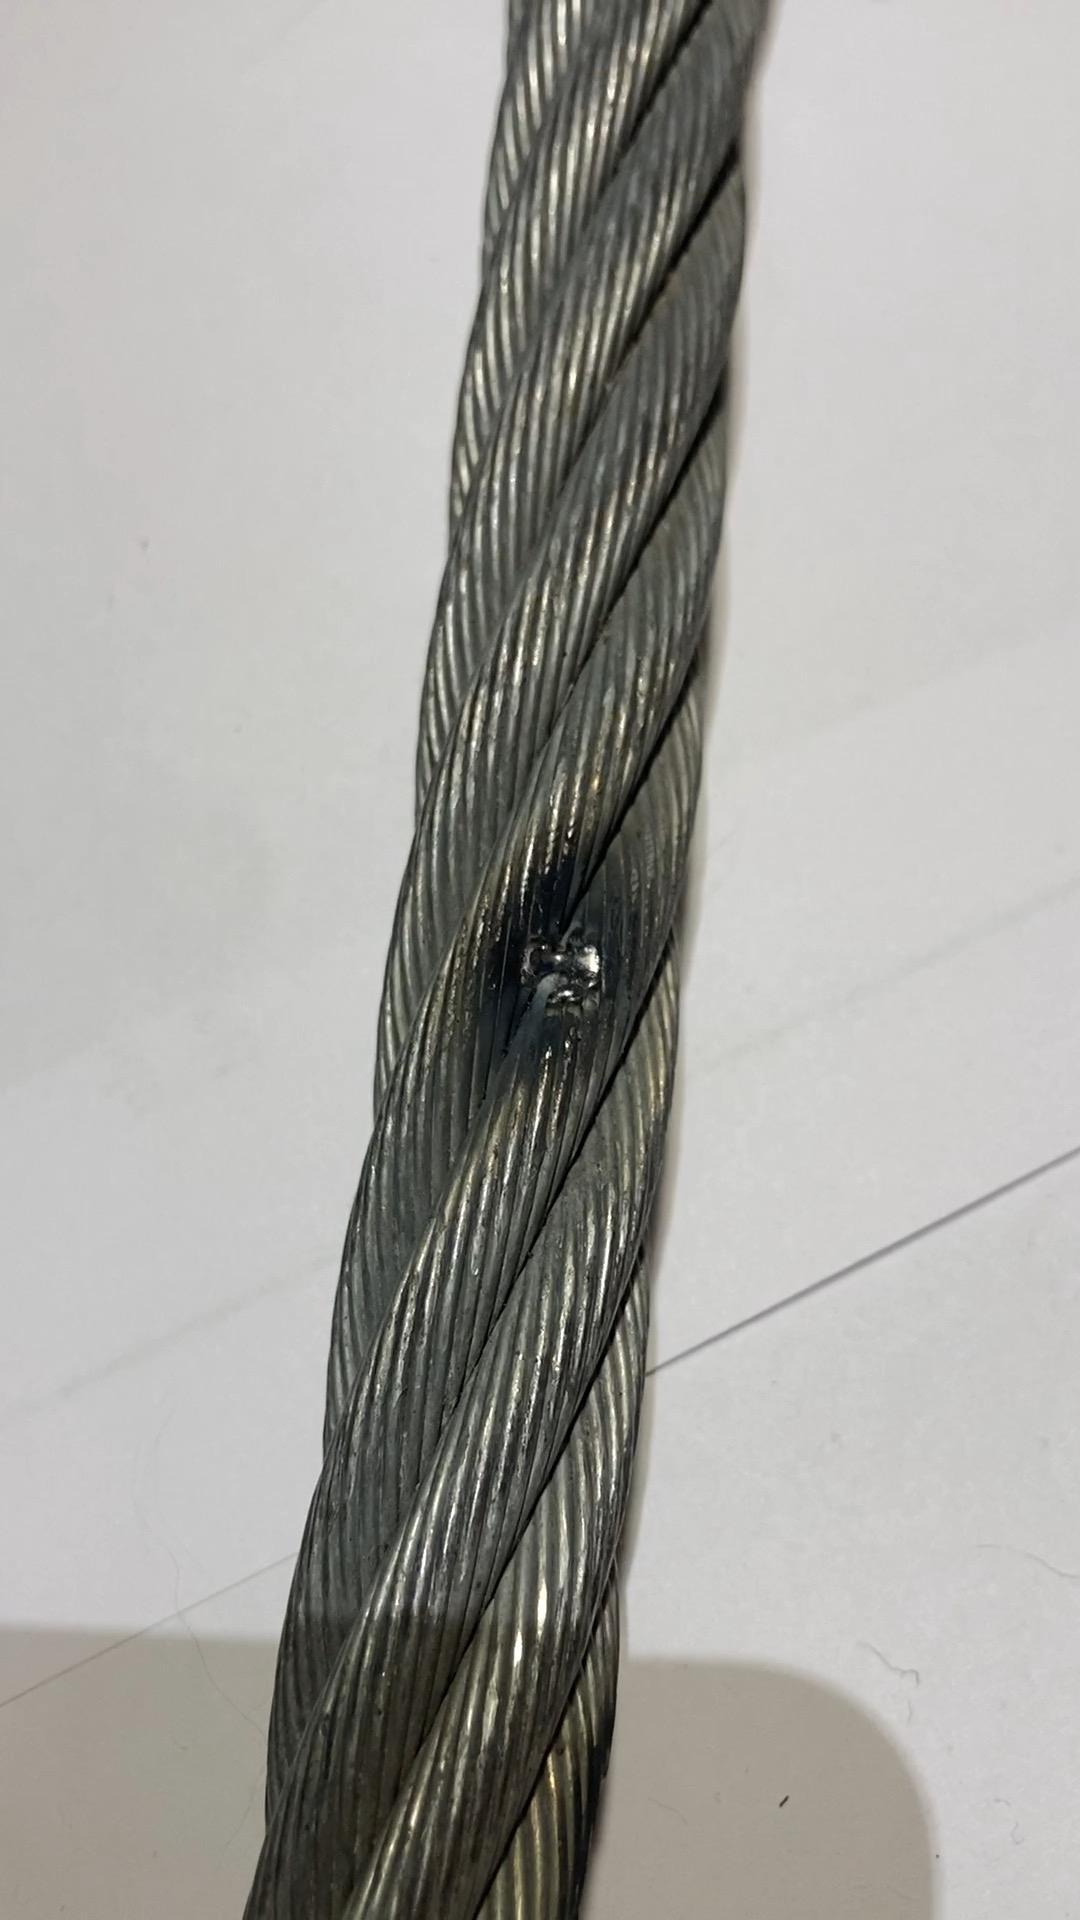thunderbolt: (497, 855, 646, 1050)
